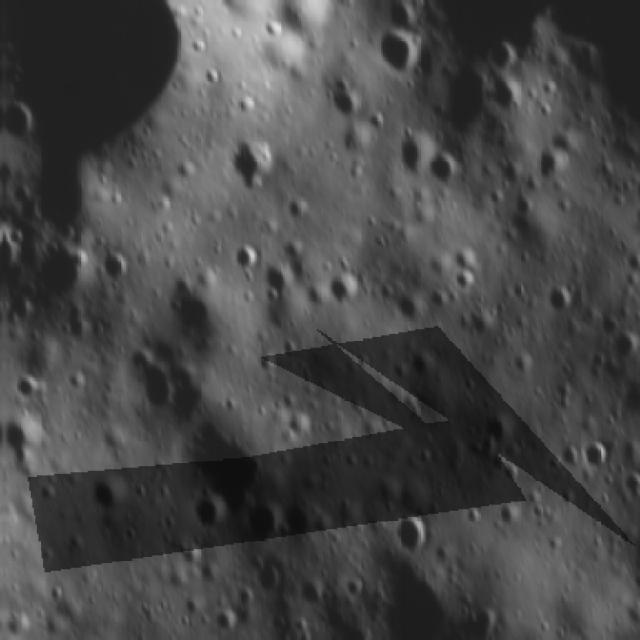crater: (370, 540, 455, 638), (118, 339, 176, 416), (34, 242, 86, 304), (220, 136, 277, 192), (368, 24, 423, 78), (390, 127, 432, 178), (242, 499, 282, 547), (2, 96, 35, 150), (85, 470, 126, 512), (188, 492, 226, 534), (390, 512, 427, 552), (322, 270, 360, 308), (422, 150, 458, 188), (474, 413, 512, 449), (538, 282, 574, 320), (531, 143, 567, 180), (97, 249, 131, 288), (319, 85, 358, 118), (257, 262, 292, 298), (401, 346, 437, 380), (576, 438, 609, 472), (604, 329, 638, 362), (391, 291, 423, 326), (484, 40, 518, 72), (382, 3, 416, 34), (228, 242, 260, 272), (294, 576, 324, 606), (492, 497, 519, 528), (252, 561, 278, 593), (505, 188, 533, 217), (449, 246, 477, 274), (507, 348, 533, 377), (285, 408, 310, 437), (253, 346, 275, 377), (447, 268, 475, 292), (282, 199, 308, 224), (339, 575, 363, 602), (14, 377, 37, 403), (309, 511, 331, 538), (44, 582, 61, 604), (462, 504, 478, 525)
